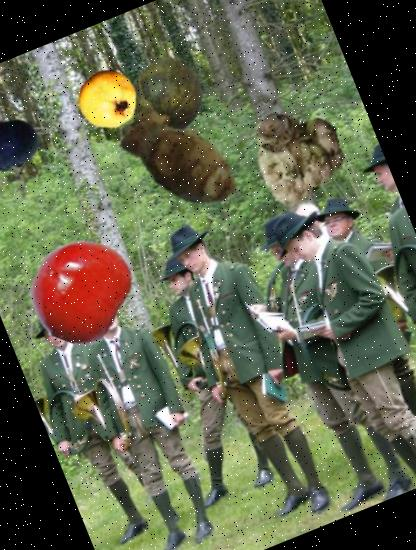Blueberry: (0, 100, 50, 190)
Cauliflower: (231, 87, 357, 213)
Cherry: (12, 221, 150, 359)
Ginger: (92, 73, 264, 246)
Melon: (116, 45, 218, 148)
Quince: (67, 59, 146, 138)
